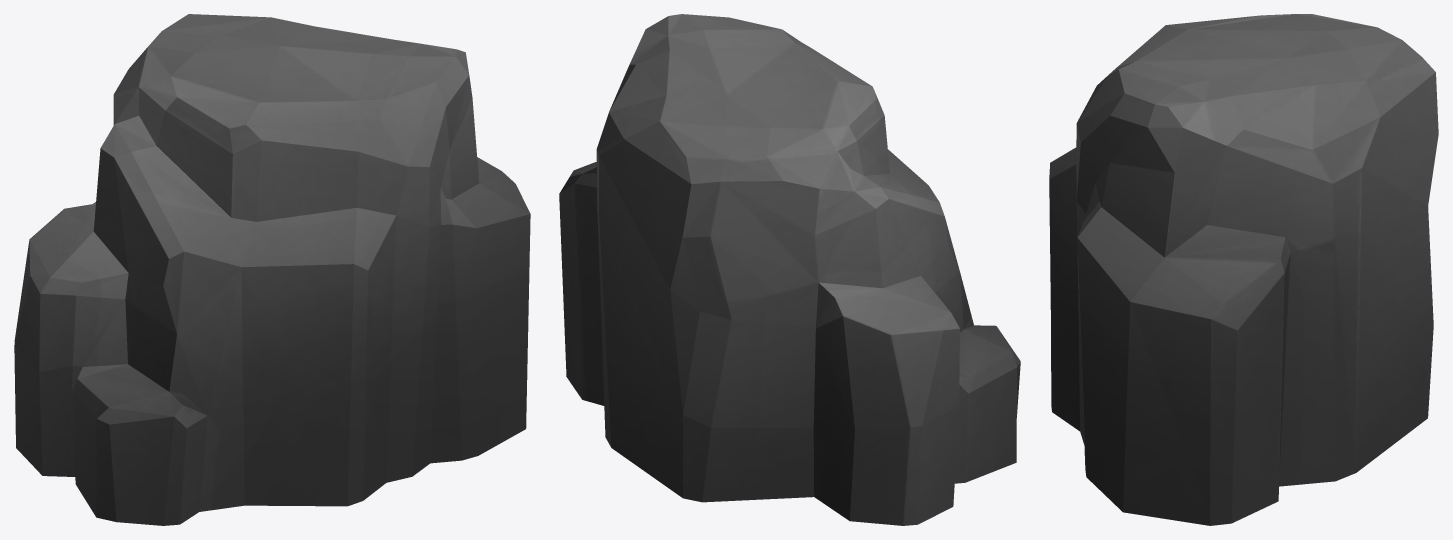
File: rock_1.glb
The picture shows the model from 3 angles, left to right: view 1: azimuth 30°, elevation 25°; view 2: azimuth 150°, elevation 25°; view 3: azimuth 270°, elevation 25°; orthographic projection. The views are drawn at different scales.
Visible parts, largest first — view 1: Rock_1; view 2: Rock_1; view 3: Rock_1.
Boxes of the visible parts, x1=… form: Rock_1: x1=14, y1=14, x2=530, y2=525; Rock_1: x1=559, y1=14, x2=1020, y2=525; Rock_1: x1=1049, y1=14, x2=1438, y2=525.
Bounding box in the file's own units: 2.87 × 2.39 × 2.15.
1 material, 1 textured.
